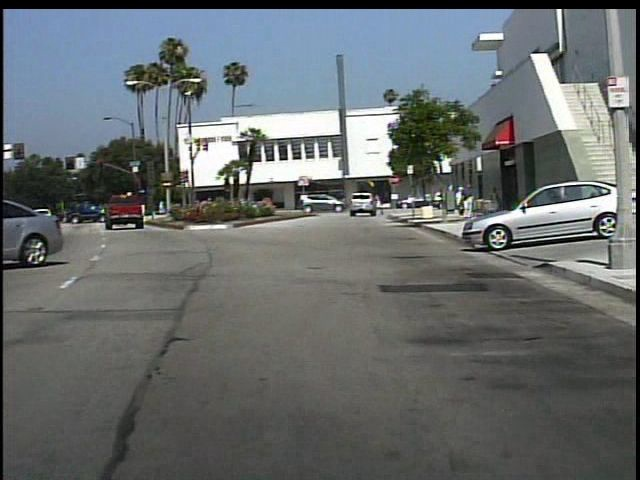person: (463, 184, 477, 223), (486, 185, 502, 218), (455, 186, 467, 218), (378, 192, 379, 221)
